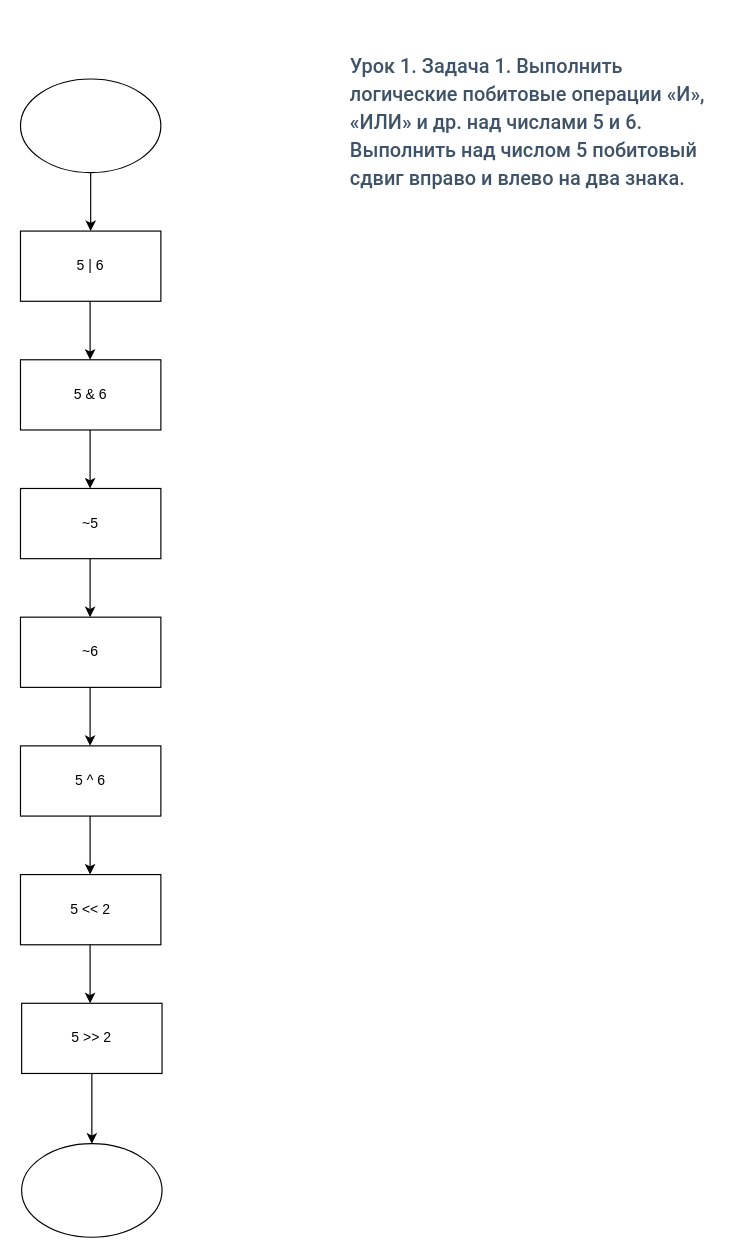
This 743x1258 diagram has some shape labels left out. Here are the shapes that lost their labels. From the top down, the centre of each, then its label:
At (x=90, y=125): "Начало".
At (x=91, y=1190): "Конец".
